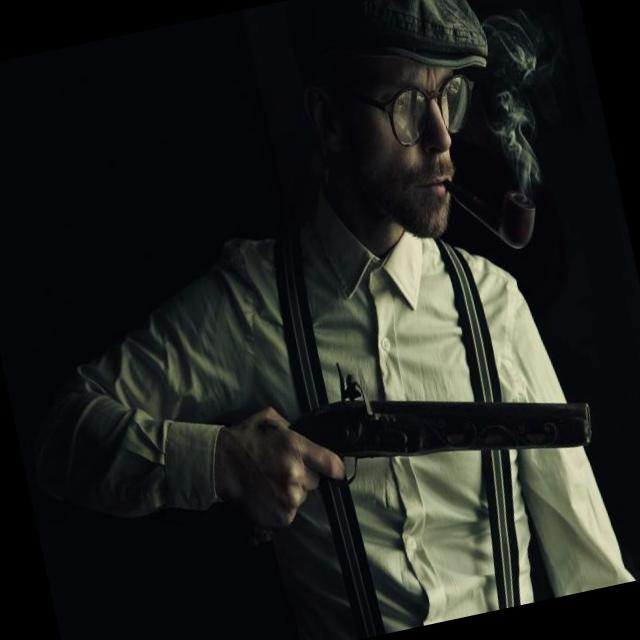Gun: (290, 371, 591, 458)
